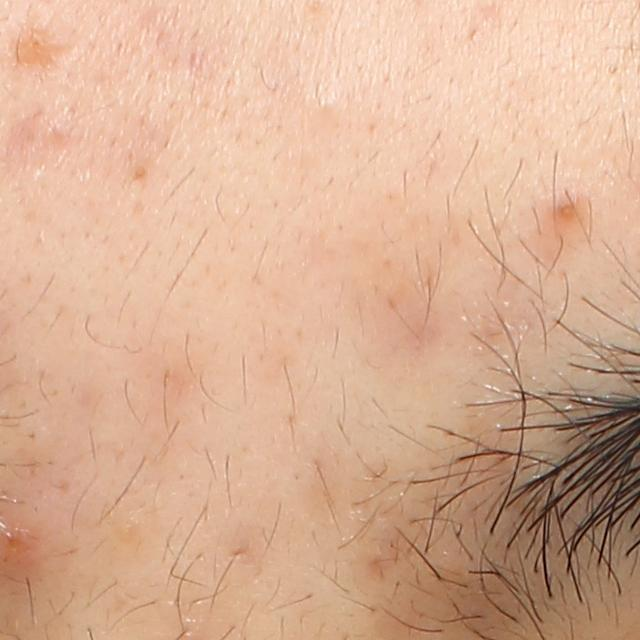comedo: (534, 190, 584, 226), (310, 87, 340, 119)
